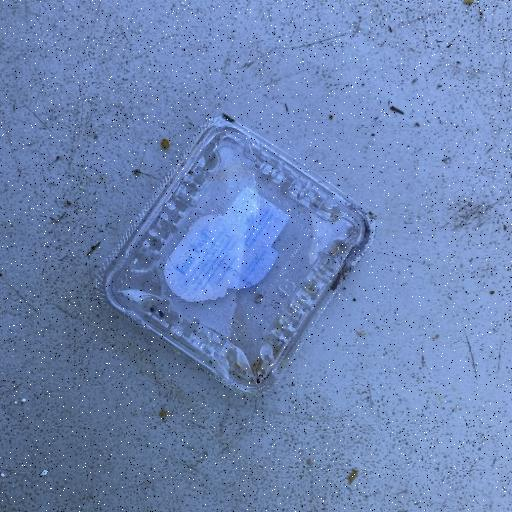Plastic: (94, 114, 376, 398)
